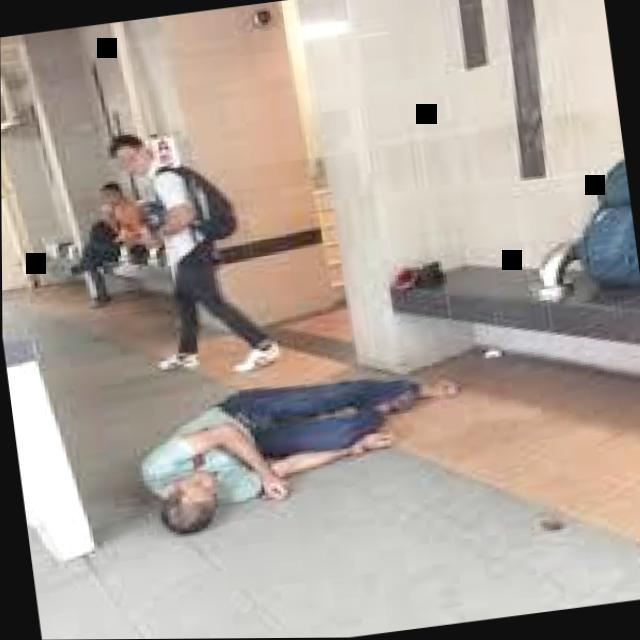Fall-Detected: (115, 343, 475, 546)
